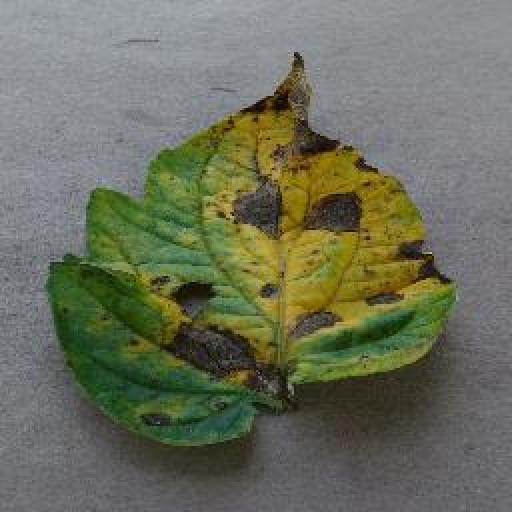disease_tomato: (44, 48, 458, 448)
